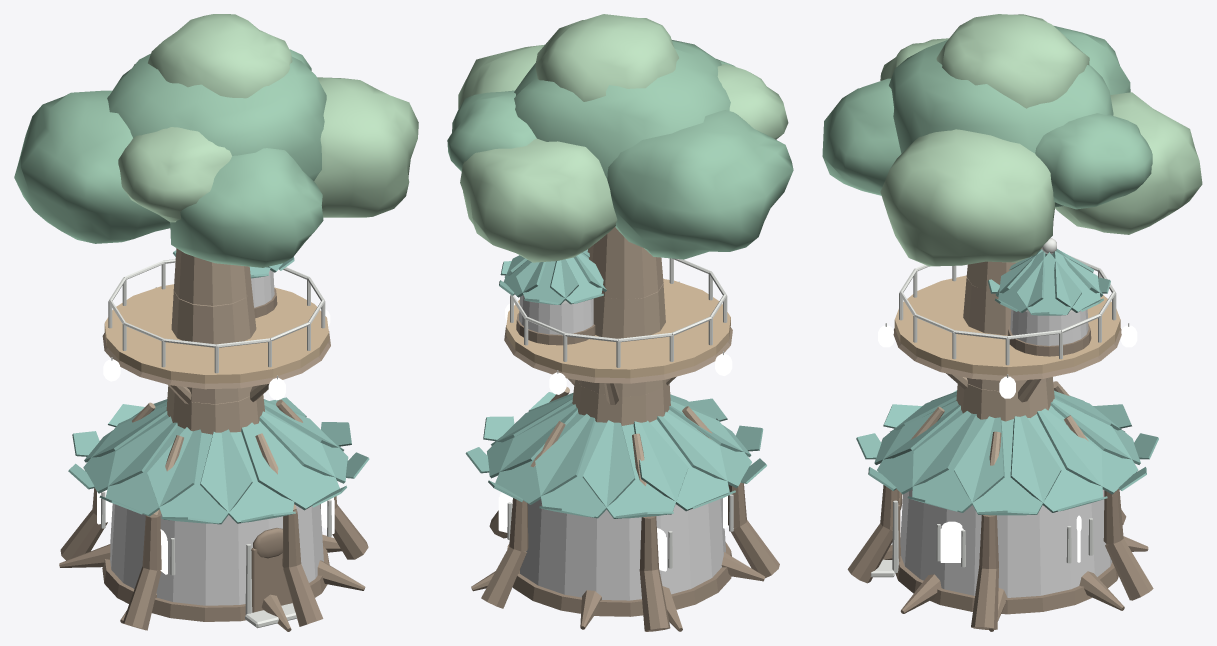
The model's file is prop_elf_treehouse.glb.
The picture shows the model from 3 angles, left to right: view 1: azimuth 30°, elevation 25°; view 2: azimuth 150°, elevation 25°; view 3: azimuth 270°, elevation 25°; orthographic projection.
Parts seen in each view (by area): view 1: prop_elf_treehouse; view 2: prop_elf_treehouse; view 3: prop_elf_treehouse.
Boxes of the visible parts, bbox=[...] form: prop_elf_treehouse: bbox=[14, 14, 418, 631]; prop_elf_treehouse: bbox=[447, 14, 793, 631]; prop_elf_treehouse: bbox=[822, 14, 1202, 631].
Bounding box in the file's own units: 9.62 × 14.58 × 9.09.
